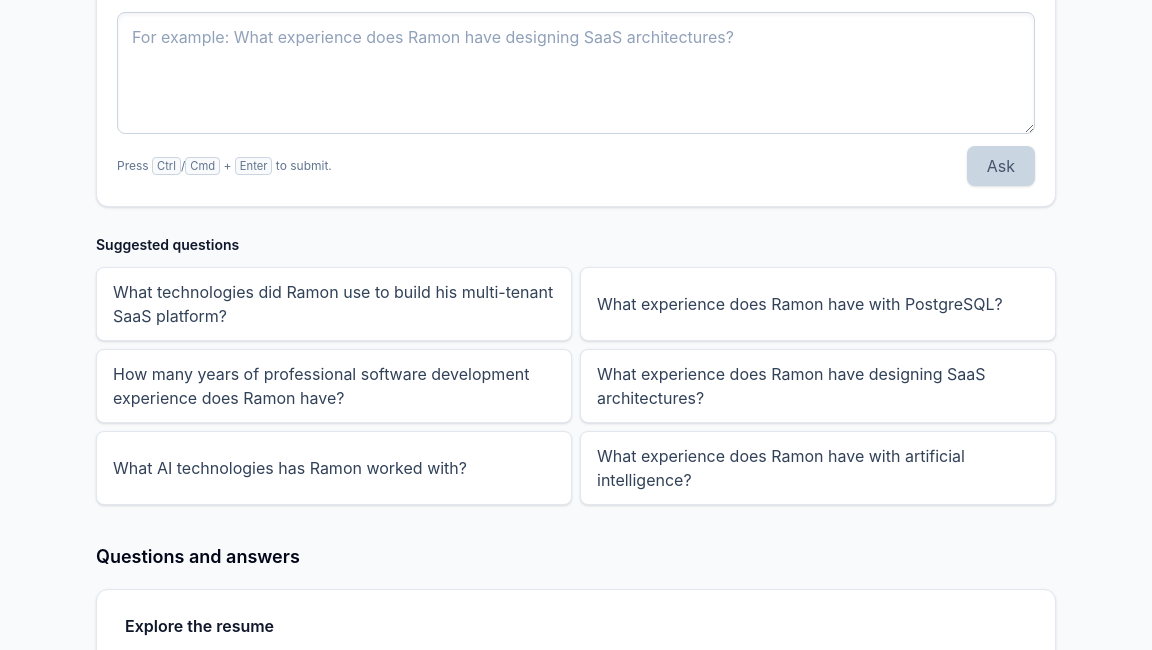
AI Resume application › shows a user-friendly network failure
(page scrolled)
Click the button "What experience does Ramon have with PostgreSQL?": click(818, 304) [580,267,1056,341]
(page scrolled)
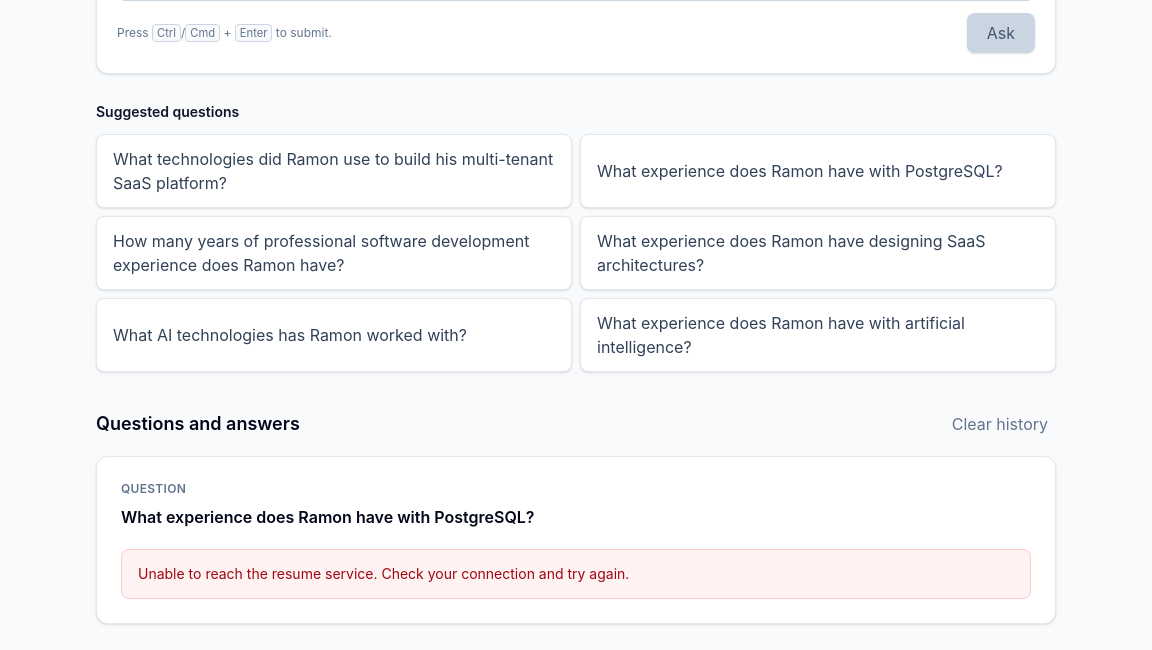
Check: the message shows "Unable to reach the resume service", box [138,565,629,582]
